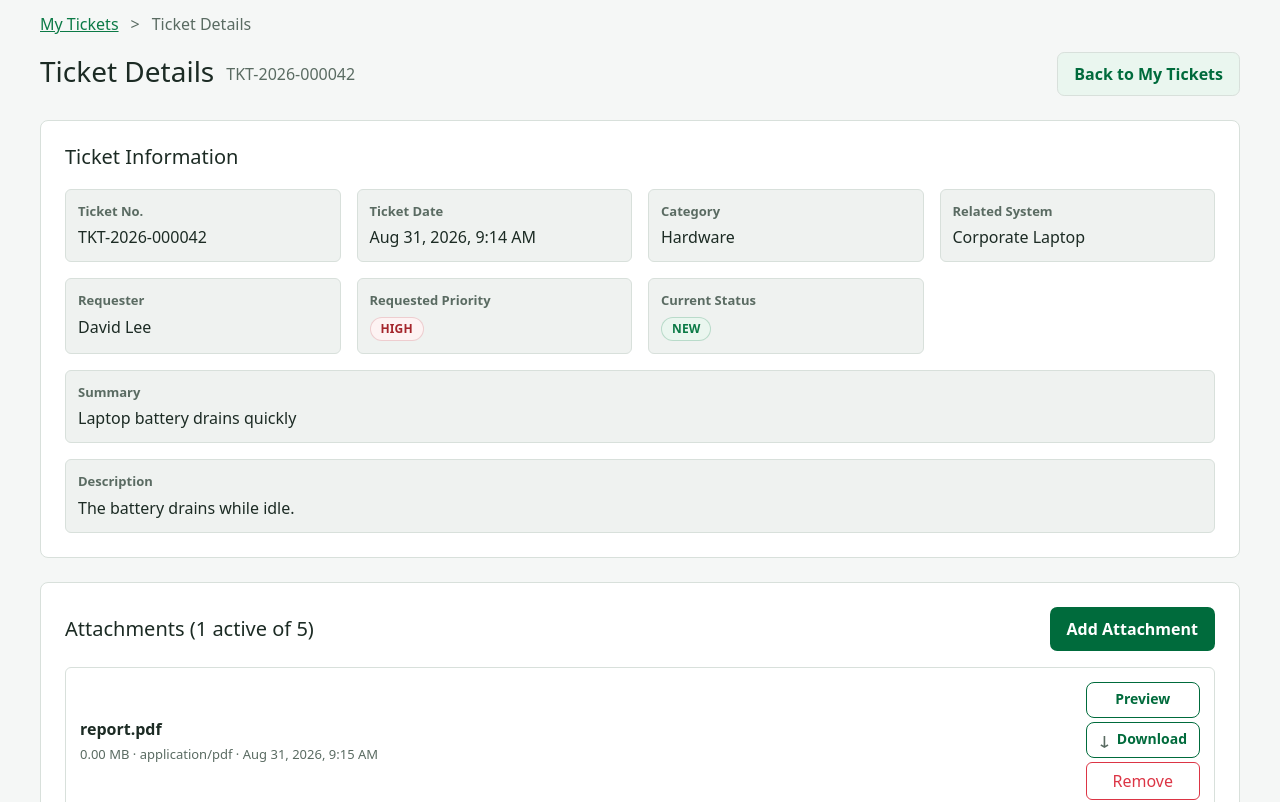
Test: RequesterTicketDetail › shows preview errors safely
Click the button with aria-label "Preview report.pdf". click: (1143, 700)
box: top-left (1086, 682), bottom-right (1200, 718)
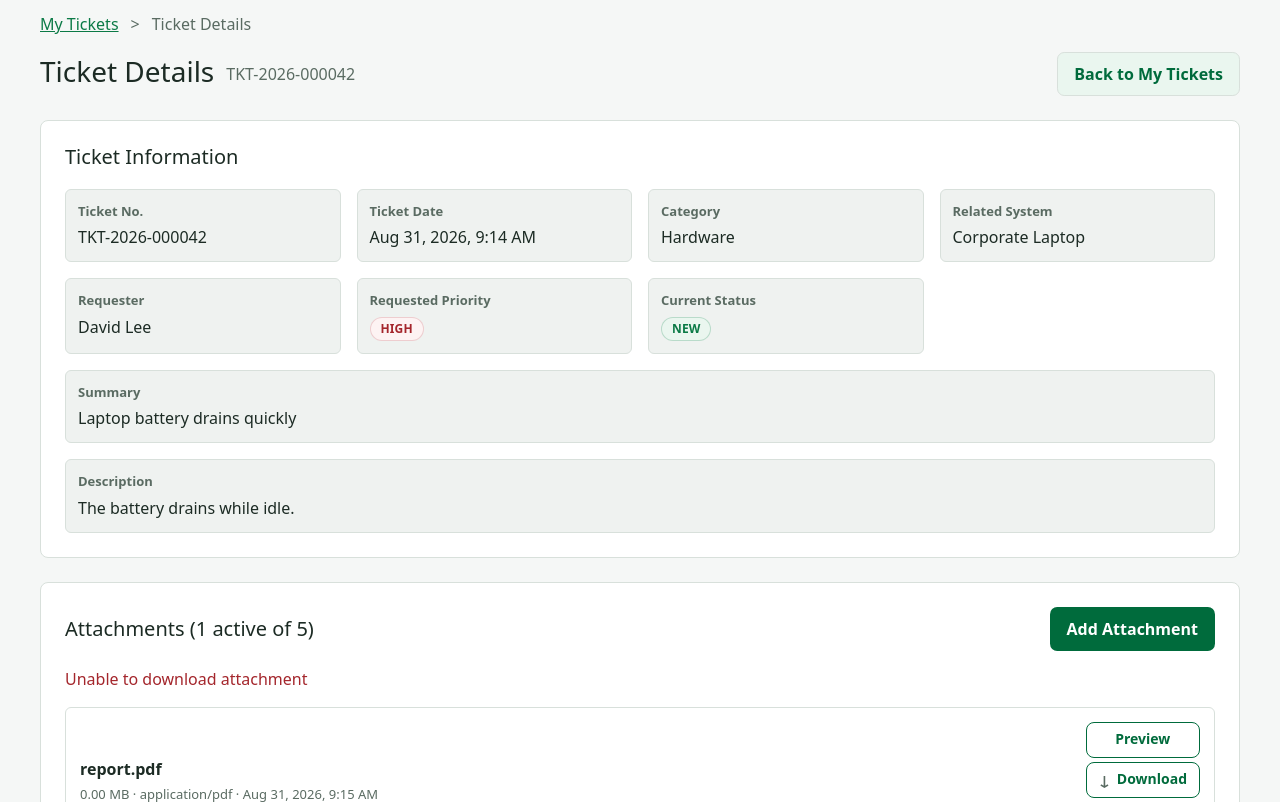
Check: the message reads "Unable to download attachment", box top-left (65, 668), bottom-right (308, 690)
